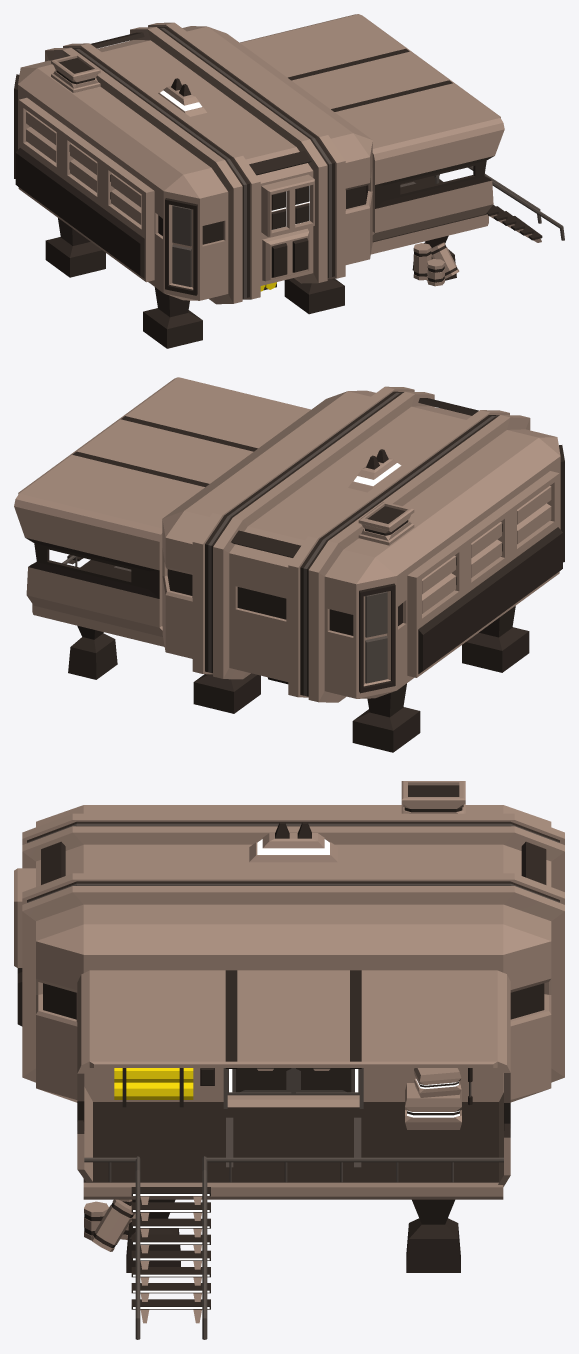
The model's file is outpost_hut.glb.
3 renders of one model, top to bottom at view 1: azimuth 30°, elevation 25°; view 2: azimuth 150°, elevation 25°; view 3: azimuth 270°, elevation 25°, orthographic. The views are drawn at different scales.
Visible parts, largest first — view 1: outpost_hut_mesh; view 2: outpost_hut_mesh; view 3: outpost_hut_mesh.
Part boxes in pixels (bbox=[...]): outpost_hut_mesh: bbox=[14, 14, 564, 348]; outpost_hut_mesh: bbox=[14, 377, 564, 752]; outpost_hut_mesh: bbox=[14, 781, 564, 1339].
Bounding box in the file's own units: 12.51 × 5.7 × 9.59.
